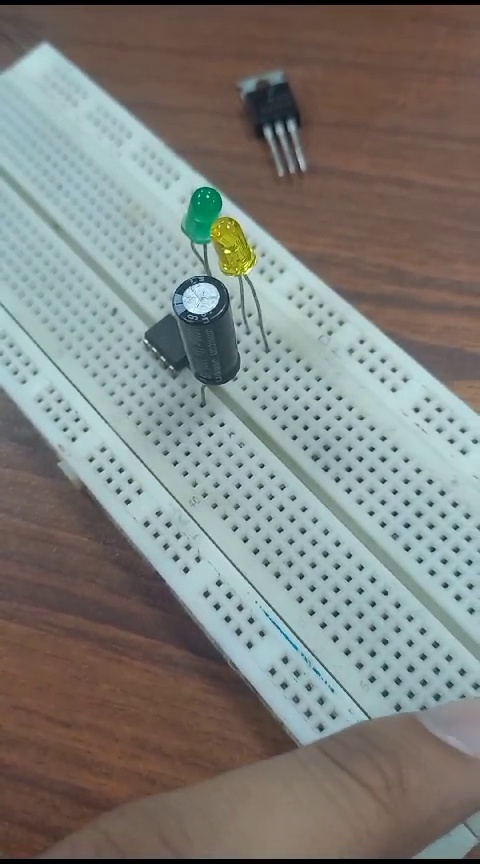IC: (135, 311, 186, 373)
LED: (179, 180, 216, 275), (210, 219, 256, 292)
capacitor: (172, 276, 247, 399)
voltage regulator: (222, 65, 314, 185)
